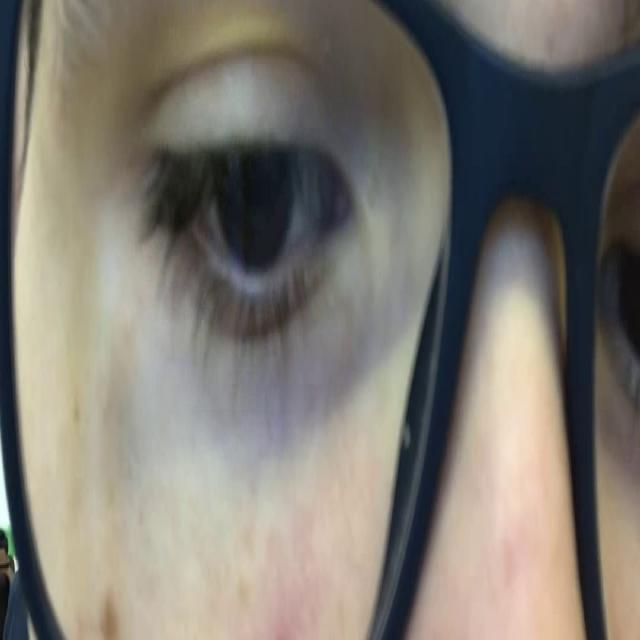eye: (136, 70, 371, 383)
gaze: (208, 112, 297, 289)
